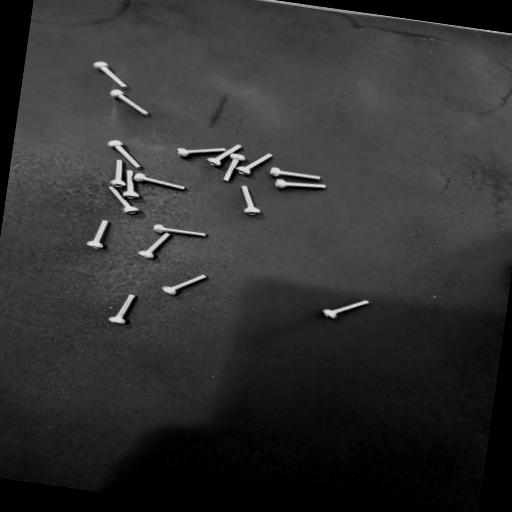Bolt: (110, 90, 149, 116), (108, 140, 142, 169), (93, 62, 127, 89), (162, 275, 207, 295), (139, 233, 172, 259), (134, 174, 186, 190), (109, 187, 139, 214), (109, 295, 136, 324), (323, 301, 369, 318), (207, 145, 242, 167), (237, 154, 272, 176), (87, 220, 109, 249), (271, 167, 320, 180), (154, 225, 206, 237), (223, 154, 245, 182), (241, 186, 260, 215), (275, 179, 325, 189), (123, 170, 139, 199), (178, 148, 226, 157), (111, 160, 126, 188)
